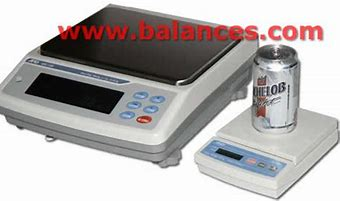Industrial Scale: (1, 3, 261, 170), (191, 100, 339, 201)
